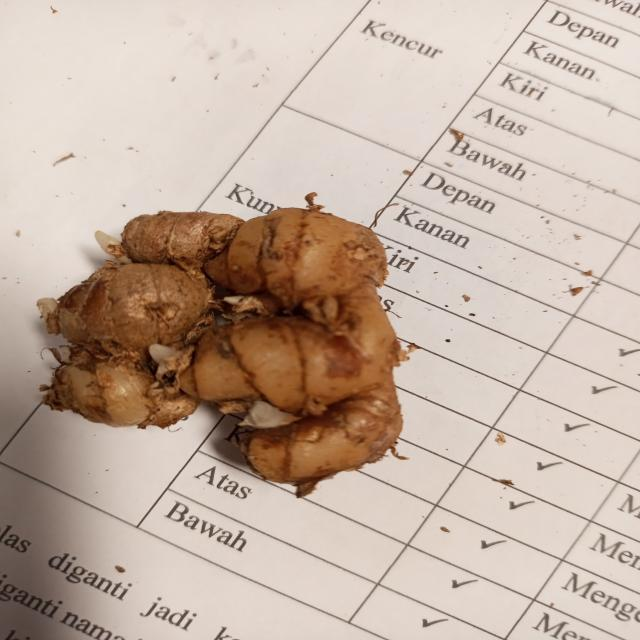ginger: (59, 206, 397, 468)
